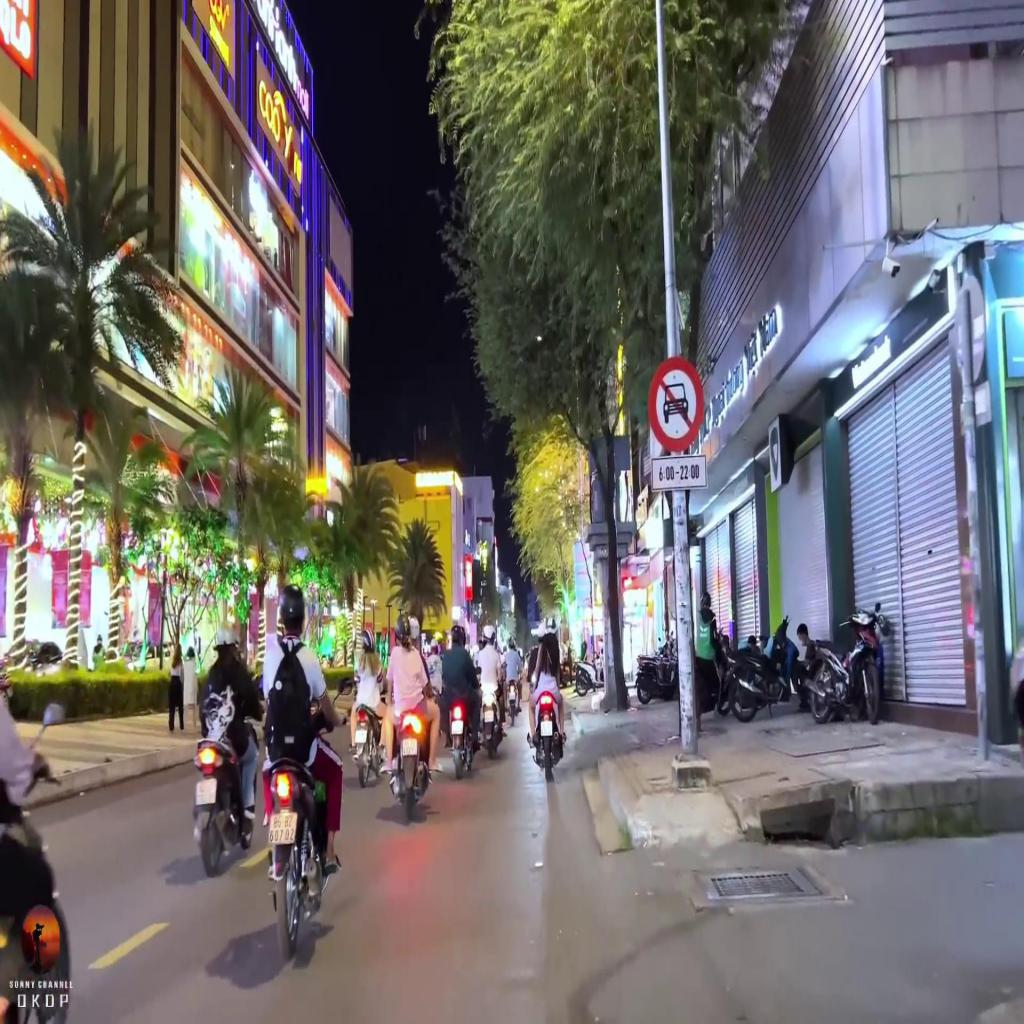cam_o_to: (648, 356, 705, 452)
khac: (651, 455, 706, 490)
